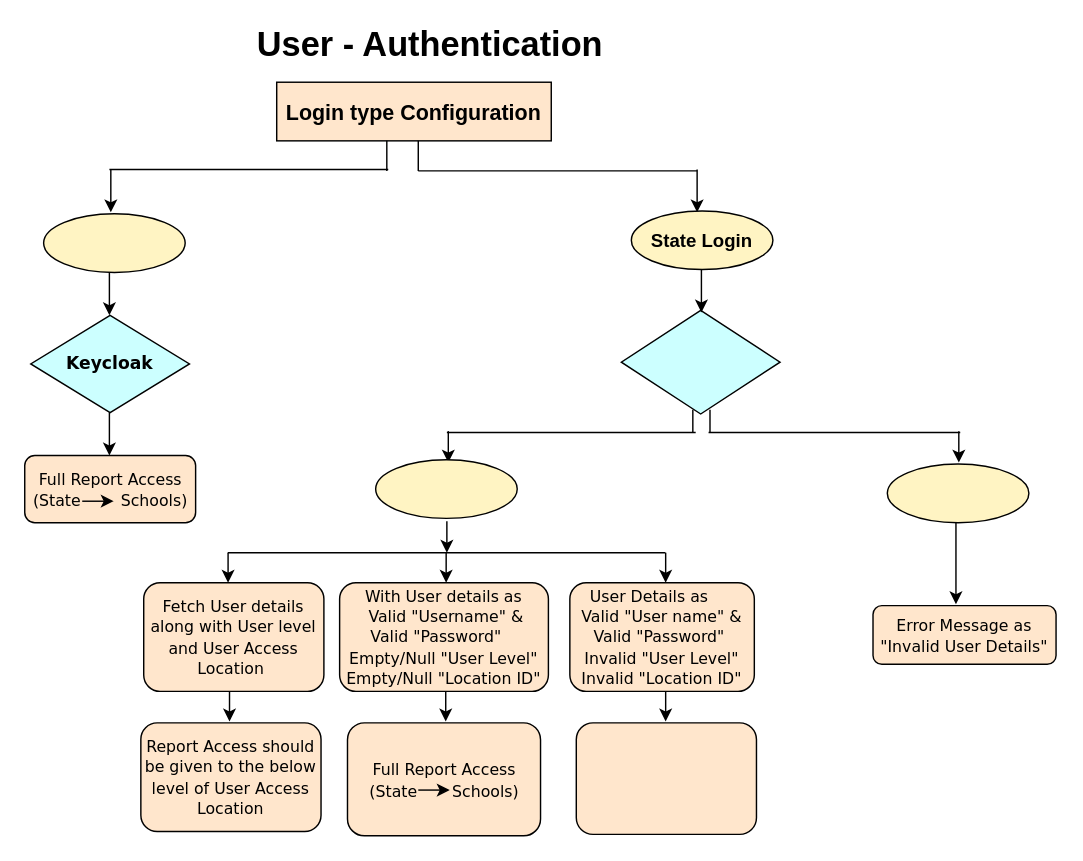
The diagram is 1083 pixels wide and 861 high, and some of its shapes have lost their labels. Each missing label, with the centre of its shape:
cQube Login: [113,242]
Error Message as "Invalid User Details" Please Contact ADMIN: [665,777]
Invalid User: [957,493]
State User Credential API: [700,361]
Valid User: [445,488]
